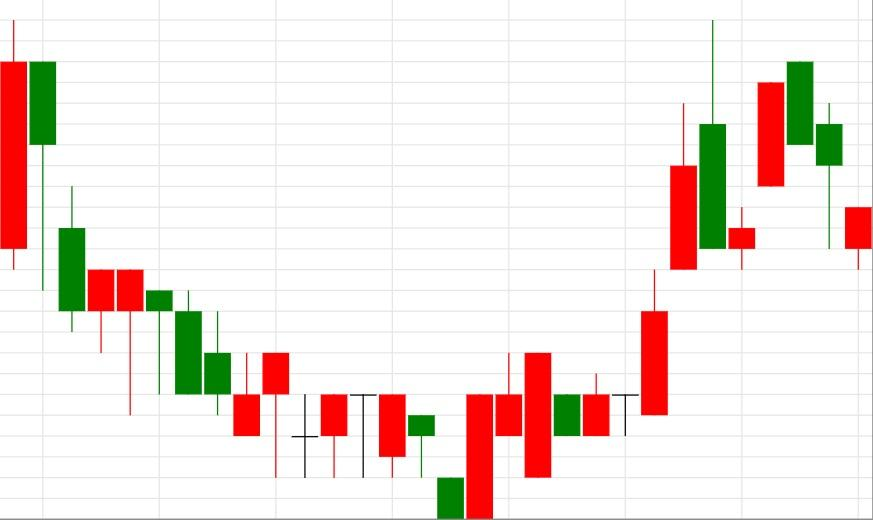bullish_engulfing_rise: (0, 19, 495, 520)
